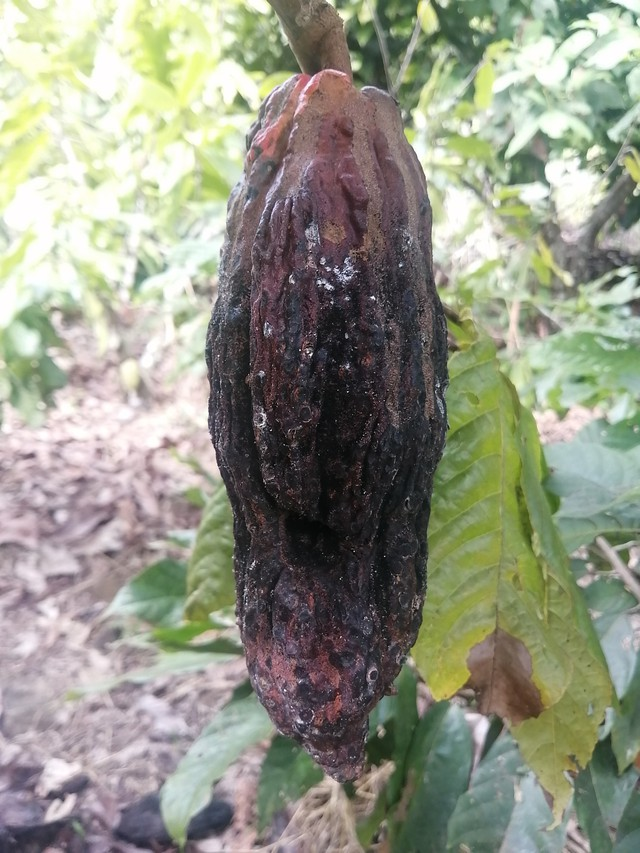moniliophthora roreri: (178, 59, 460, 796)
